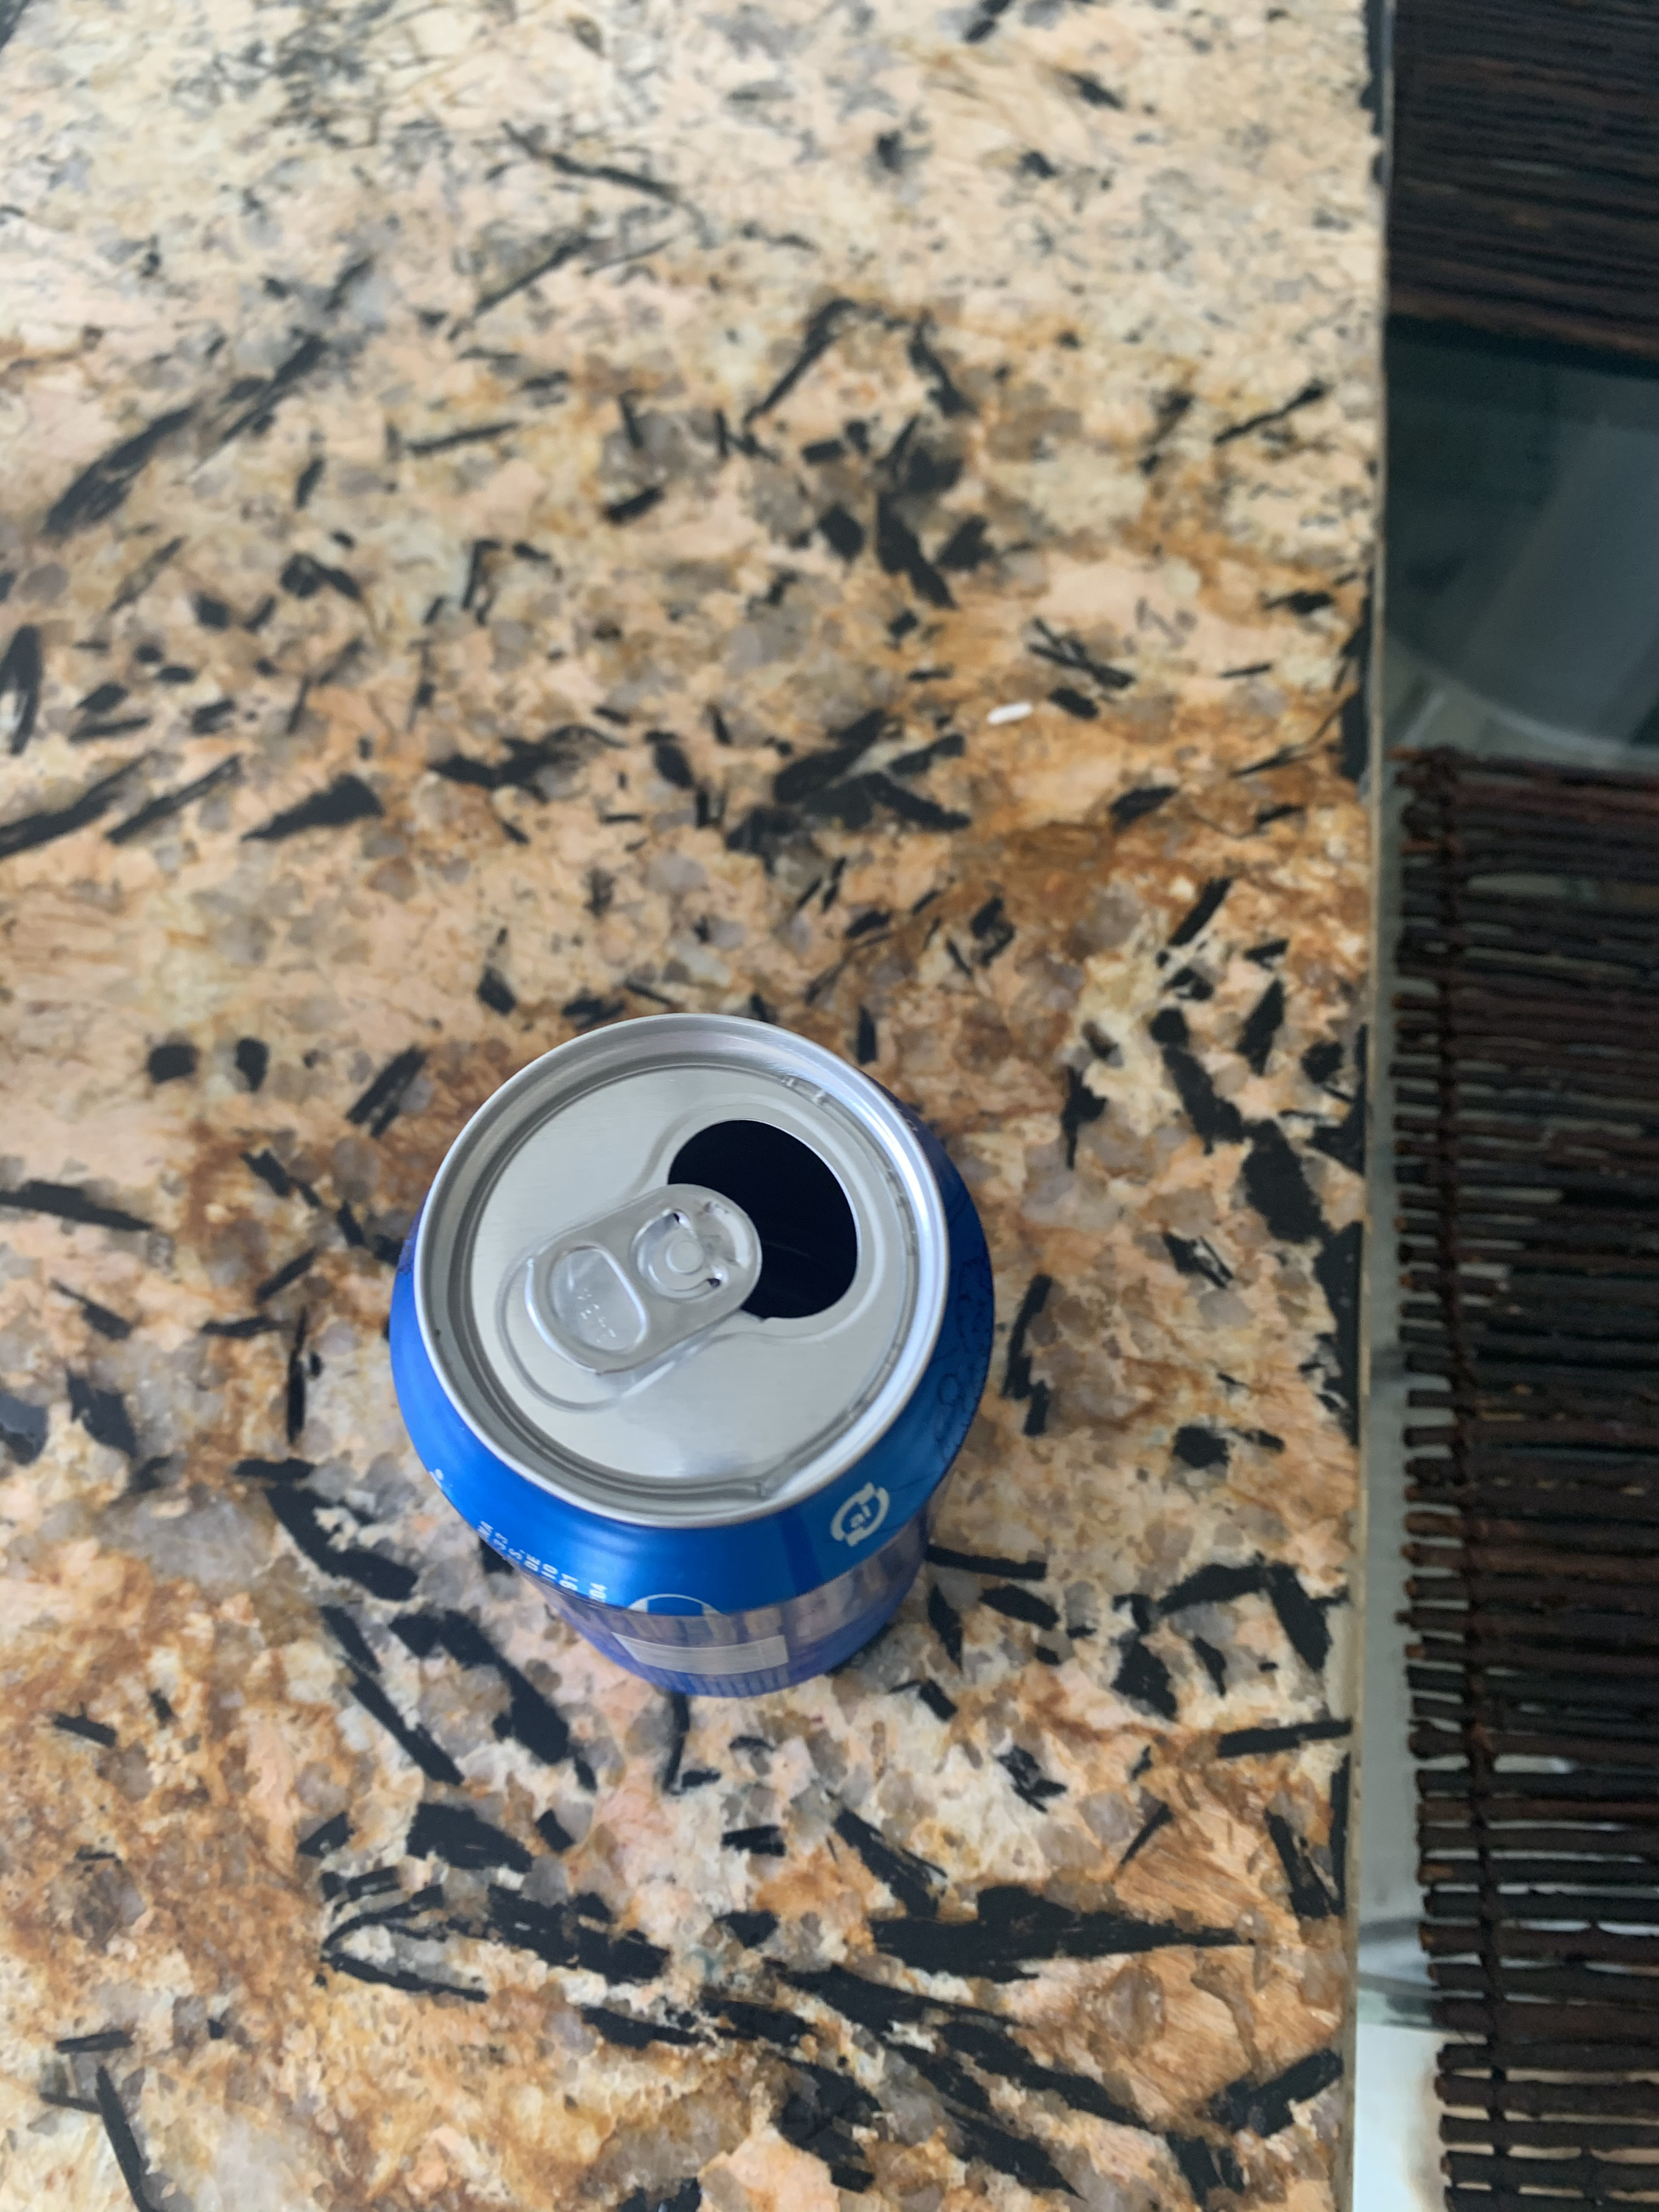tonica: (305, 975, 1039, 1731)
